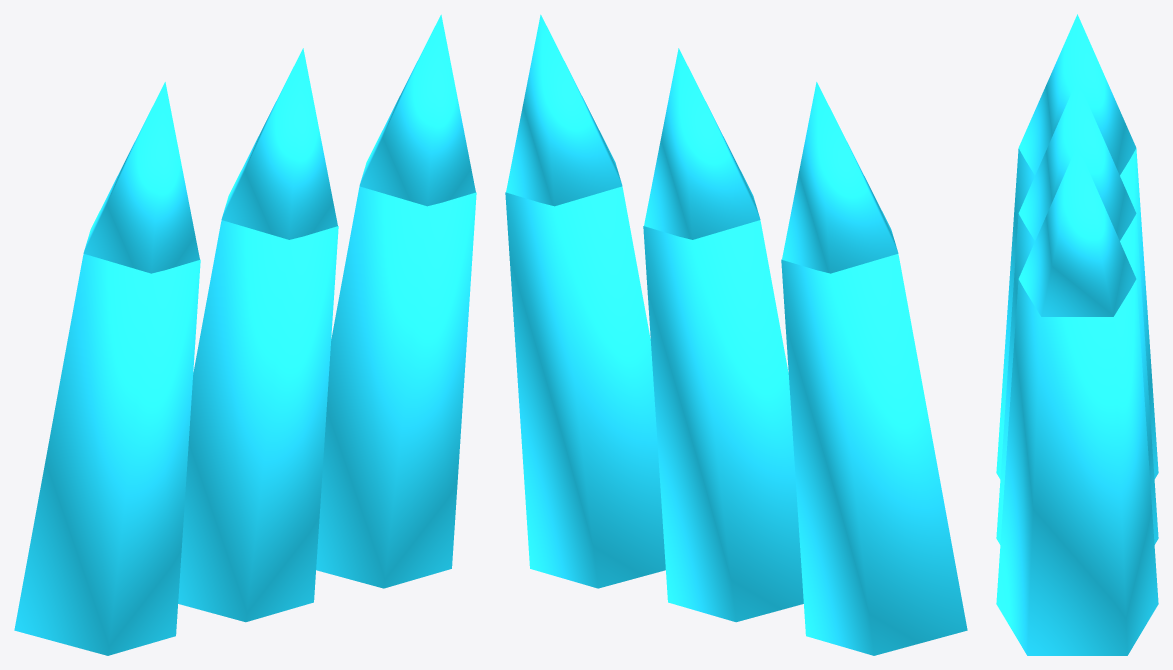
The model's file is crystal_wall.glb.
The picture shows the model from 3 angles, left to right: view 1: azimuth 30°, elevation 25°; view 2: azimuth 150°, elevation 25°; view 3: azimuth 270°, elevation 25°; orthographic projection. The views are drawn at different scales.
Visible parts, largest first — view 1: crystal_wall; view 2: crystal_wall; view 3: crystal_wall.
Part boxes in pixels (bbox=[...]): crystal_wall: bbox=[14, 14, 476, 655]; crystal_wall: bbox=[505, 14, 967, 655]; crystal_wall: bbox=[996, 14, 1158, 655].
Bounding box in the file's own units: 1.93 × 2.21 × 0.6277.
